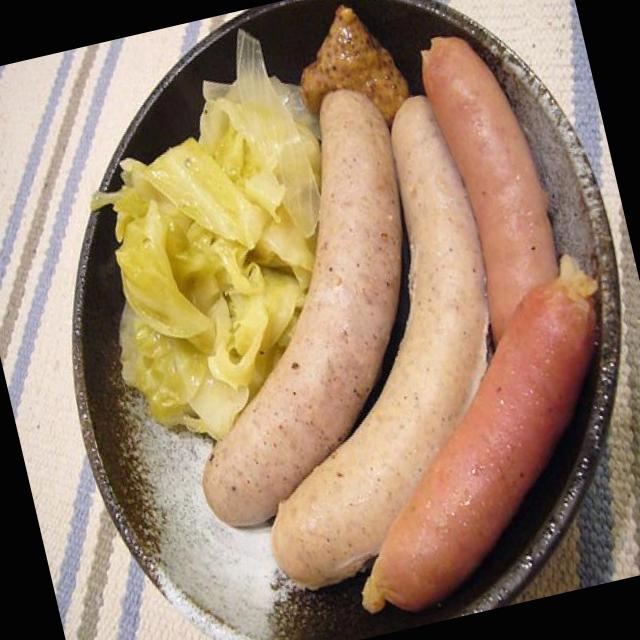Sausage: (136, 8, 640, 640)
